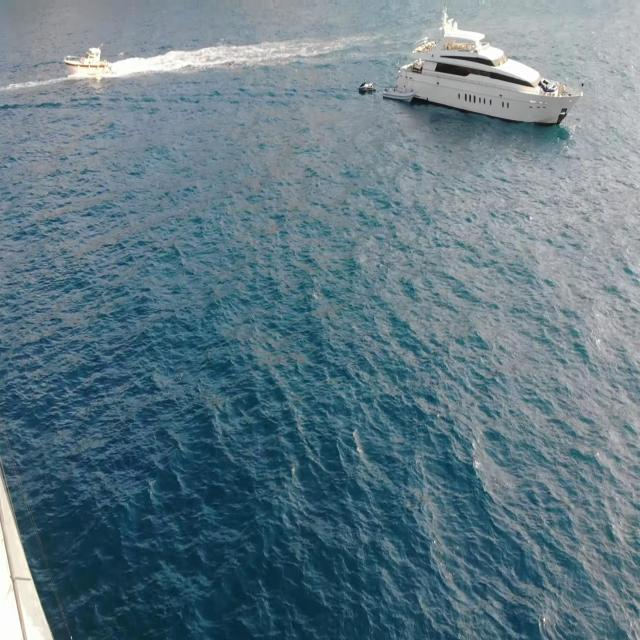boat: (399, 2, 583, 128), (63, 44, 105, 78), (382, 79, 414, 100), (360, 78, 375, 98)
